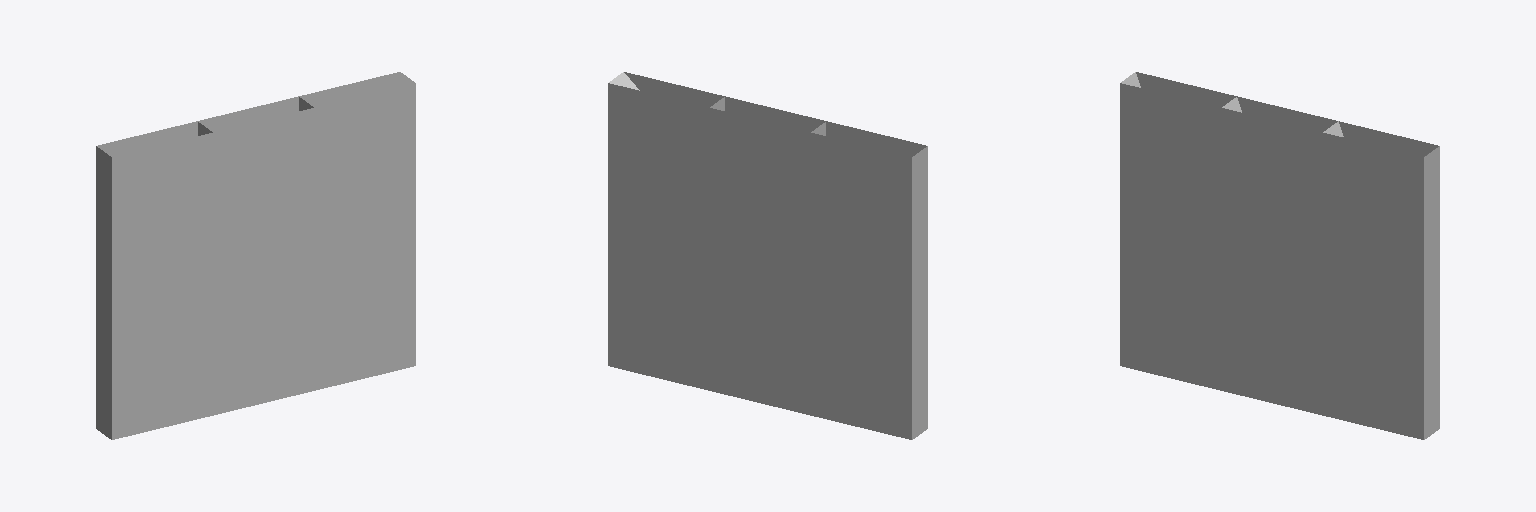
File: 3d_Felwood-Pond 10.wlw.obj
3 renders of one model, left to right at view 1: azimuth 30°, elevation 25°; view 2: azimuth 150°, elevation 25°; view 3: azimuth 330°, elevation 25°, orthographic.
Bounding box in the file's own units: 113 × 101 × 10.